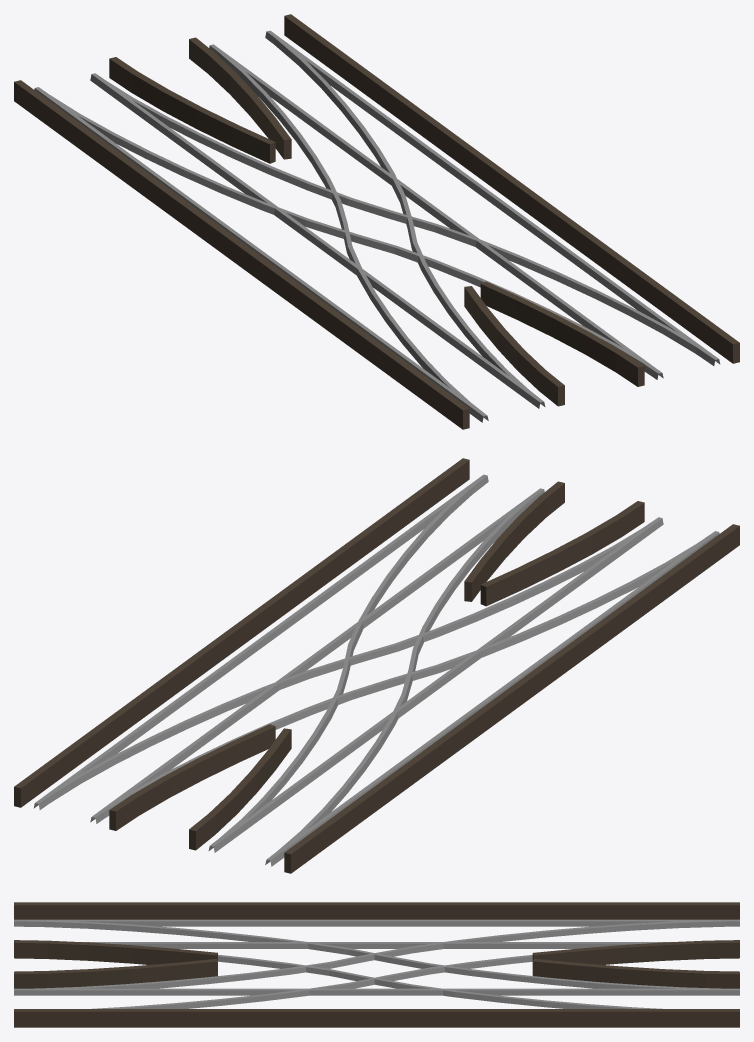
File: SW_ENV_Track_DoubleToDouble_DoubleCross_20m_Collision.fbx
3 renders of one model, top to bottom at view 1: azimuth 30°, elevation 25°; view 2: azimuth 150°, elevation 25°; view 3: azimuth 270°, elevation 25°, orthographic. The views are drawn at different scales.
Parts seen in each view (by area): view 1: SW_ENV_Track_DoubleToDouble_DoubleCross_20m_Collision; view 2: SW_ENV_Track_DoubleToDouble_DoubleCross_20m_Collision; view 3: SW_ENV_Track_DoubleToDouble_DoubleCross_20m_Collision.
Boxes of the visible parts, left/top/right/bottom form: SW_ENV_Track_DoubleToDouble_DoubleCross_20m_Collision: left=14, top=14, right=739, bottom=429; SW_ENV_Track_DoubleToDouble_DoubleCross_20m_Collision: left=14, top=458, right=739, bottom=873; SW_ENV_Track_DoubleToDouble_DoubleCross_20m_Collision: left=14, top=902, right=739, bottom=1027.
Bounding box in the file's own units: 713 × 47.71 × 2000.
